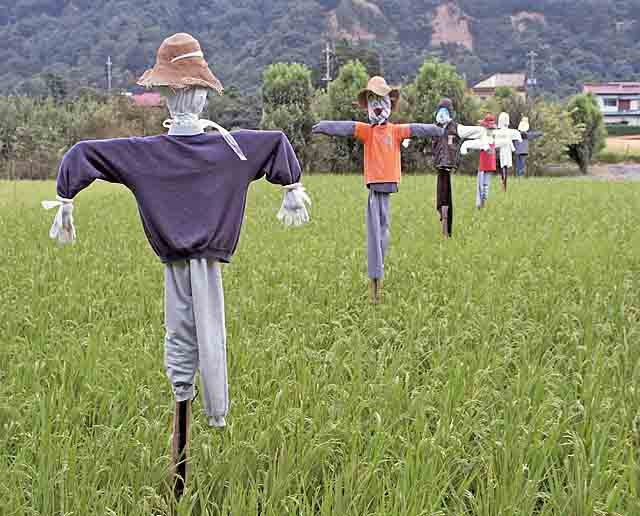person-like: (47, 27, 317, 432), (311, 72, 446, 286), (419, 96, 490, 236), (473, 110, 500, 212), (496, 107, 521, 191), (514, 114, 534, 175)
